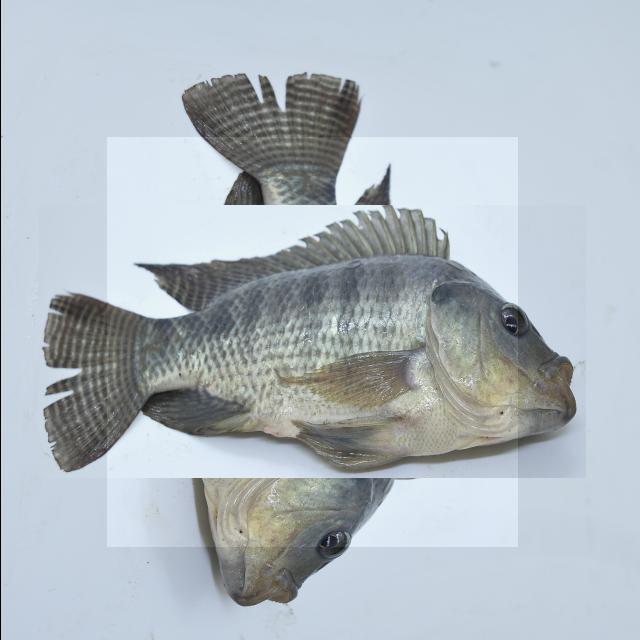Healthy Fish: (106, 137, 517, 547)
